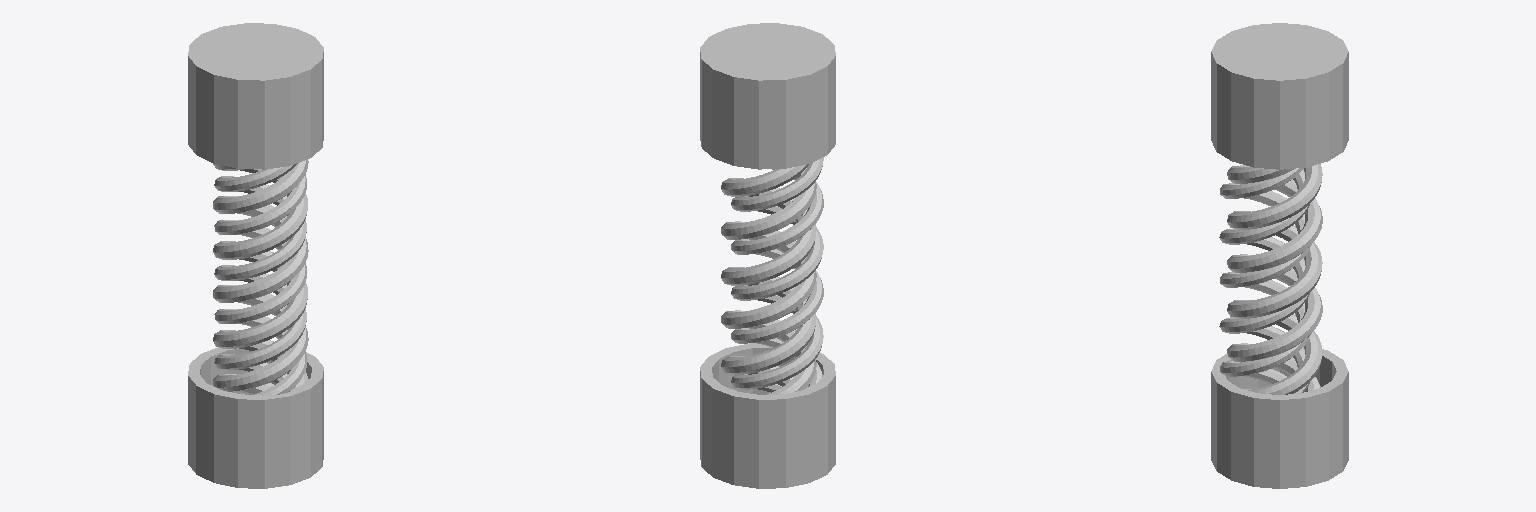
Rendered from tubo5.obj.
The picture shows the model from 3 angles: view 1: azimuth 30°, elevation 25°; view 2: azimuth 150°, elevation 25°; view 3: azimuth 270°, elevation 25°; orthographic projection.
Visible parts, largest first — view 1: pasted__tubo4 group7 tubo9:Cap, pasted__tubo4 group7 tubo9:Spiral_Glass, pasted__tubo4 group7 tubo9:Cap_High_Poly, tubo9:Spiral pasted__tubo4 group7; view 2: pasted__tubo4 group7 tubo9:Cap, pasted__tubo4 group7 tubo9:Cap_High_Poly, pasted__tubo4 group7 tubo9:Spiral_Glass, tubo9:Spiral pasted__tubo4 group7; view 3: pasted__tubo4 group7 tubo9:Cap, pasted__tubo4 group7 tubo9:Cap_High_Poly, pasted__tubo4 group7 tubo9:Spiral_Glass, tubo9:Spiral pasted__tubo4 group7.
Part boxes in pixels (x1,y1,x2,y2): pasted__tubo4 group7 tubo9:Cap: (188,23,323,488); pasted__tubo4 group7 tubo9:Spiral_Glass: (213,160,308,394); pasted__tubo4 group7 tubo9:Cap_High_Poly: (188,23,323,487); tubo9:Spiral pasted__tubo4 group7: (214,163,306,395); pasted__tubo4 group7 tubo9:Cap: (700,23,835,488); pasted__tubo4 group7 tubo9:Cap_High_Poly: (700,23,835,488); pasted__tubo4 group7 tubo9:Spiral_Glass: (721,164,816,394); tubo9:Spiral pasted__tubo4 group7: (731,157,823,392); pasted__tubo4 group7 tubo9:Cap: (1211,23,1348,488); pasted__tubo4 group7 tubo9:Cap_High_Poly: (1211,23,1348,488); pasted__tubo4 group7 tubo9:Spiral_Glass: (1227,164,1322,394); tubo9:Spiral pasted__tubo4 group7: (1219,168,1310,393).
Size of the model in its own units: 0.0888 by 0.291 by 0.0888.